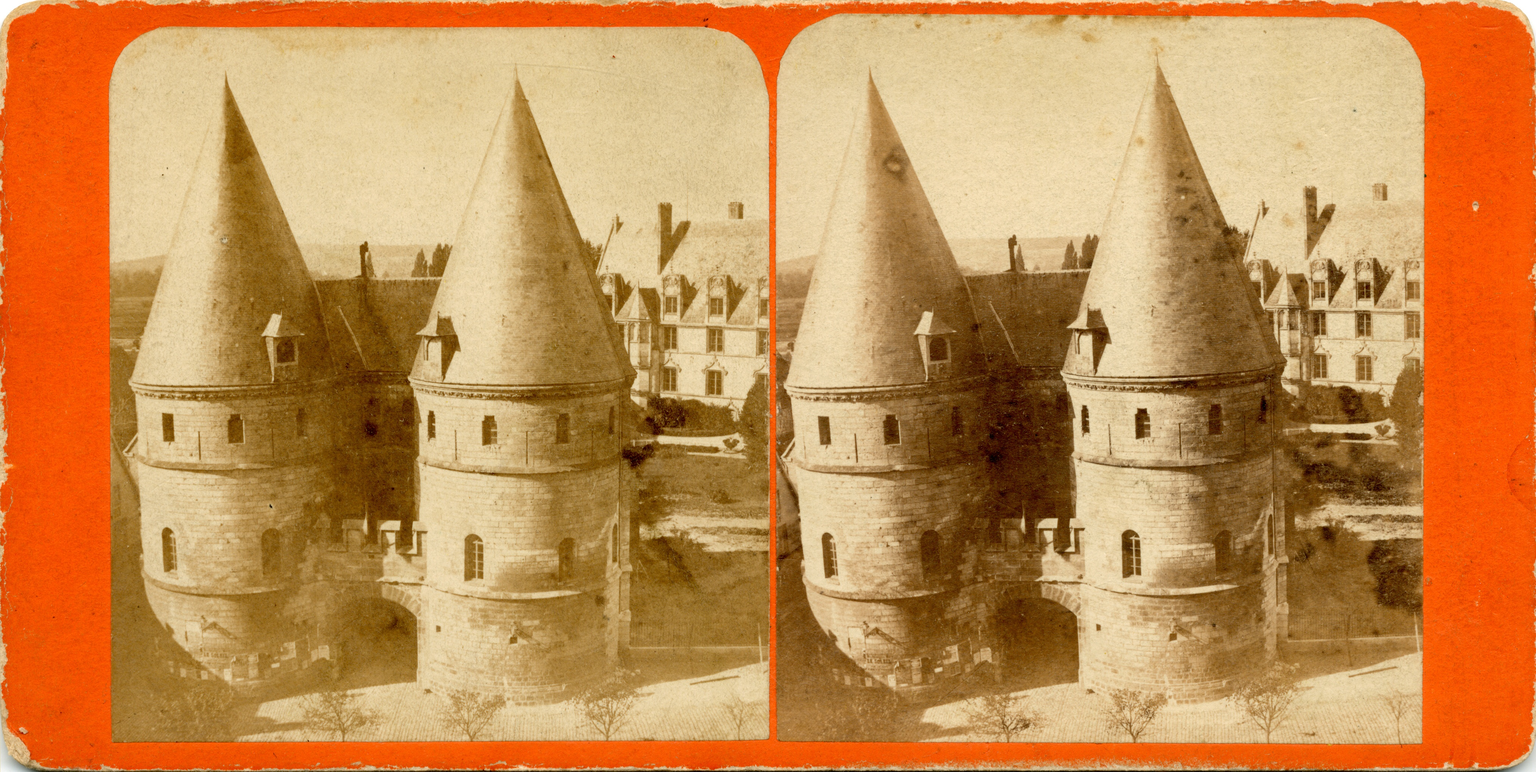half_image: (110, 26, 769, 744), (778, 14, 1427, 742)
